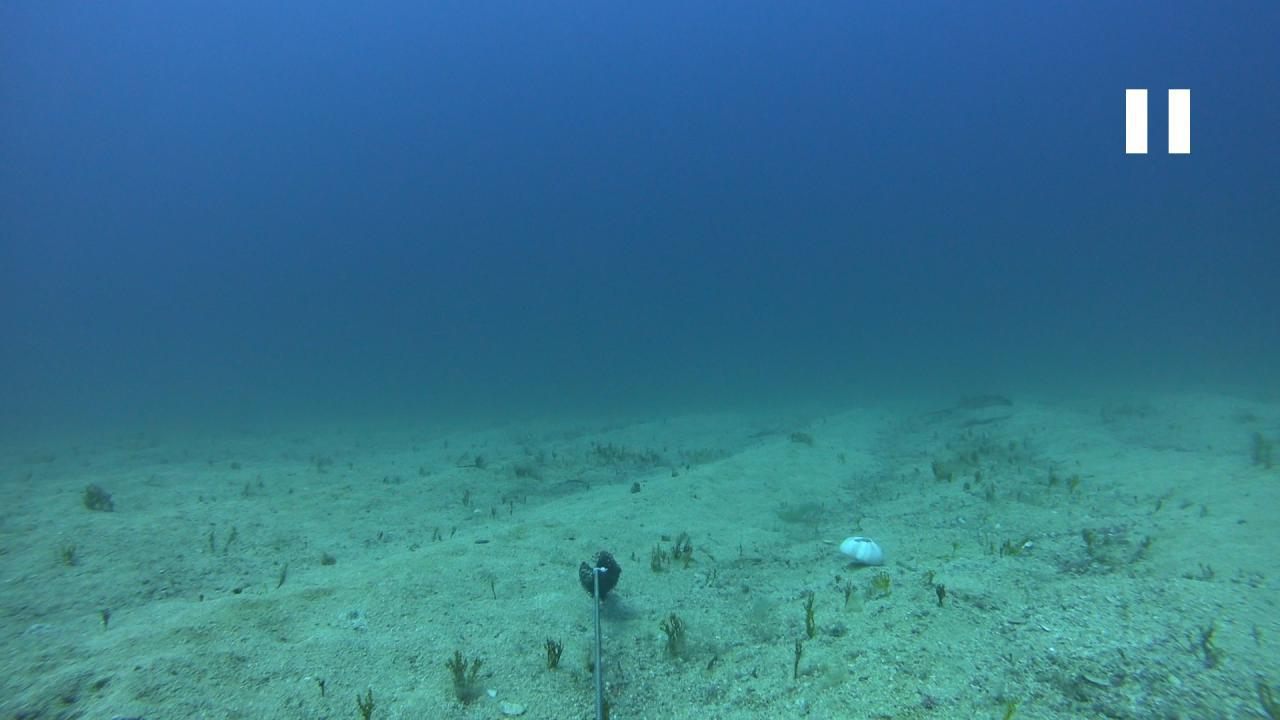dasyatis: (924, 390, 1016, 417)
